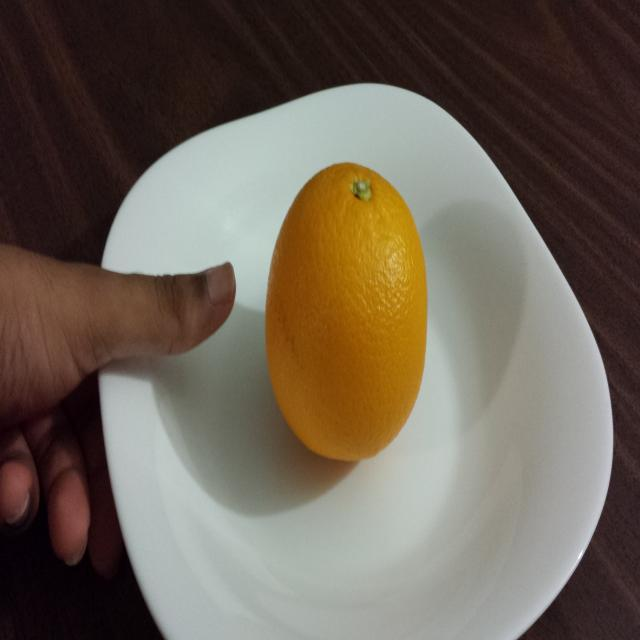Orange: (256, 148, 461, 476)
